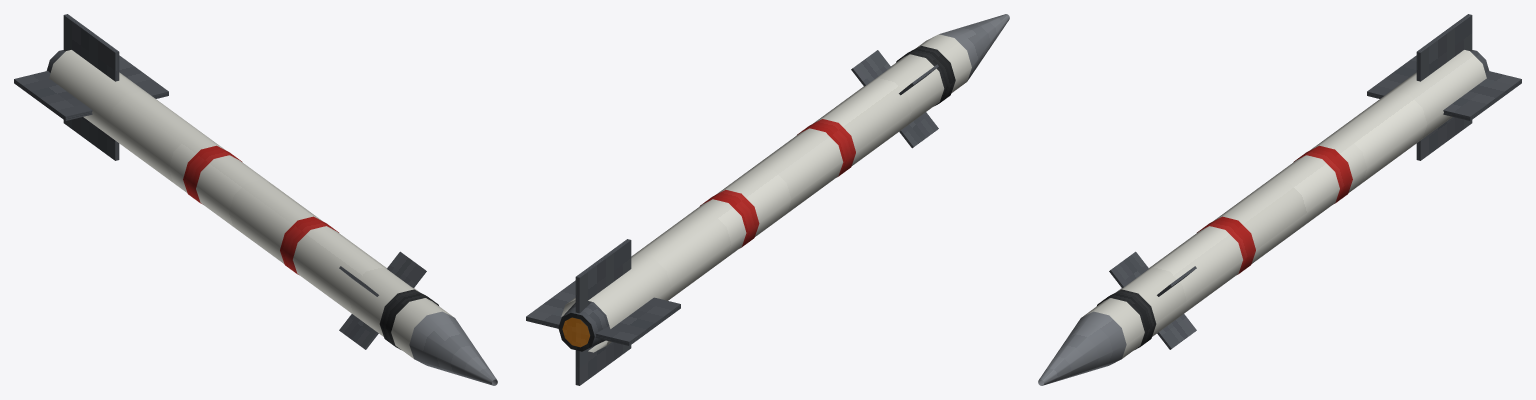
The model's file is sam_48n6.glb.
The picture shows the model from 3 angles, left to right: view 1: azimuth 30°, elevation 25°; view 2: azimuth 150°, elevation 25°; view 3: azimuth 330°, elevation 25°; orthographic projection.
Parts seen in each view (by area): view 1: body; view 2: body; view 3: body.
Part boxes in pixels (x1,y1,x2,y2): body: (14, 14, 497, 385); body: (526, 14, 1009, 385); body: (1038, 14, 1521, 385).
Size of the model in its own units: 1.04 by 1.04 by 7.51.
Materials: 1 (1 with a texture image).
